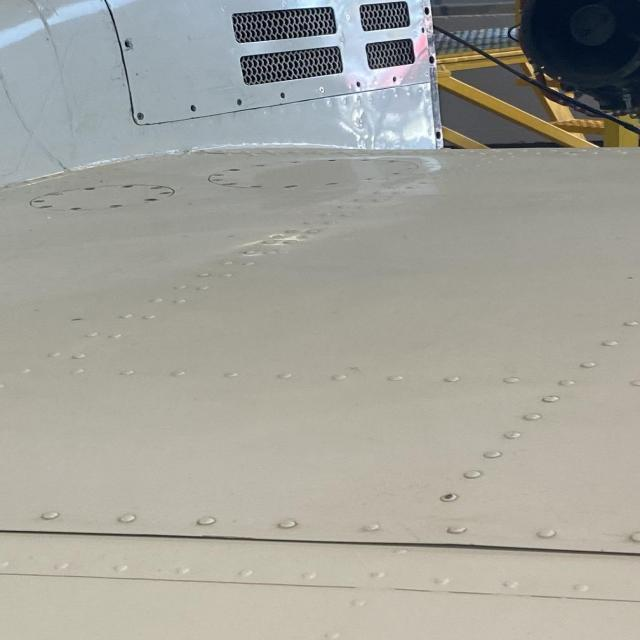Missing-head: (121, 36, 134, 52), (189, 103, 197, 113), (280, 90, 287, 101)
